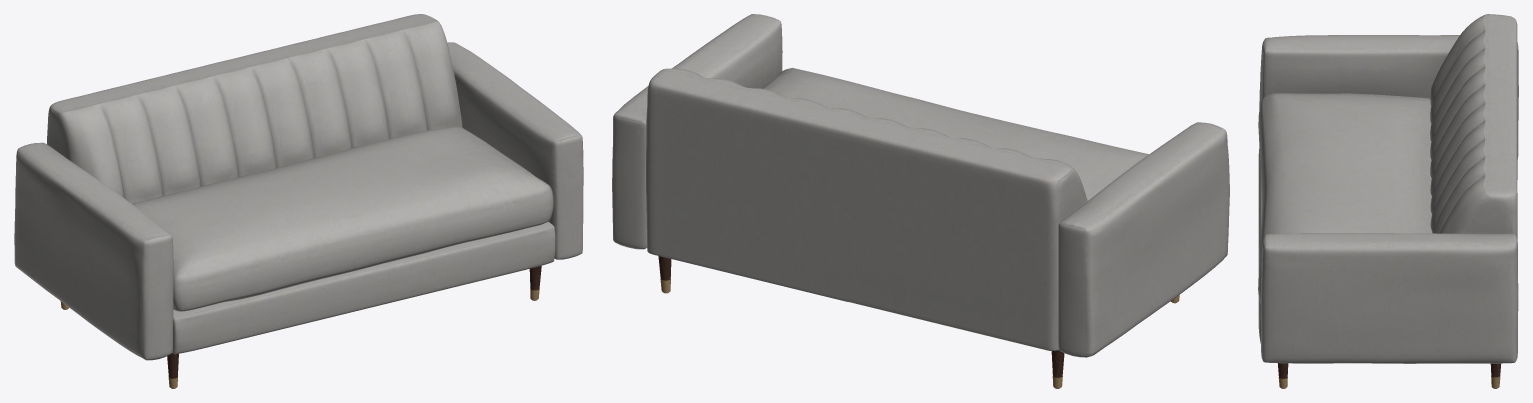
Rendered from abo-B07QCMB7LV.glb.
3 renders of one model, left to right at view 1: azimuth 30°, elevation 25°; view 2: azimuth 150°, elevation 25°; view 3: azimuth 270°, elevation 25°, orthographic. The views are drawn at different scales.
Bounding box in the file's own units: 1.89 × 0.814 × 0.969.
Materials: 1 (1 with a texture image).
